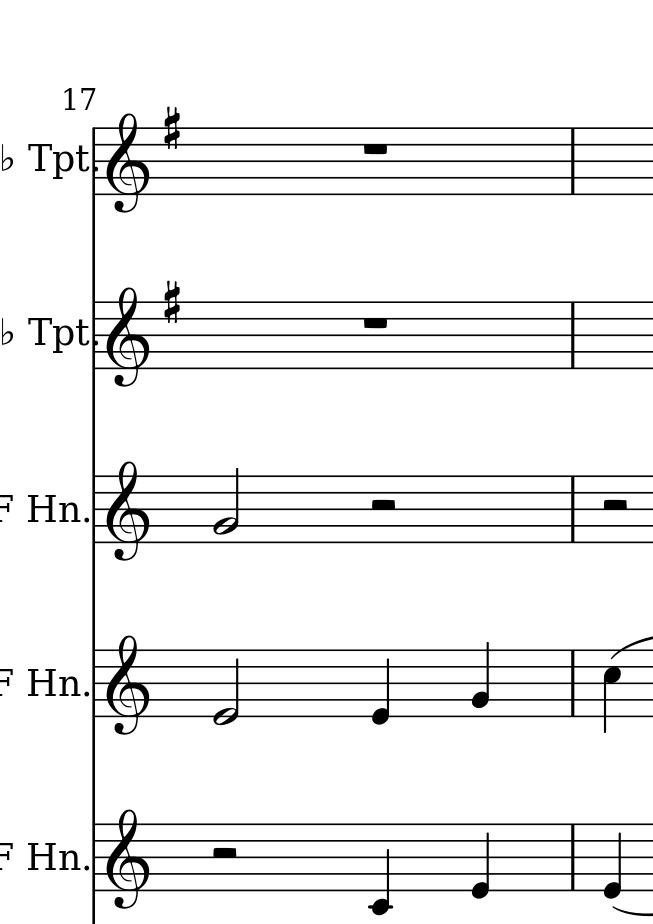1: (62, 84, 77, 115)
2_0: (206, 646, 242, 726)
2_2: (211, 465, 243, 544)
4_-2: (367, 818, 393, 917)
4_0: (368, 646, 394, 728), (601, 821, 625, 900), (469, 822, 493, 899)
4_2: (469, 637, 494, 719)
4_5: (599, 648, 625, 737)
7: (79, 83, 98, 114)
Gclef: (105, 455, 152, 563), (106, 806, 150, 909), (106, 635, 151, 735), (108, 113, 148, 217), (107, 285, 147, 389)
Hn: (22, 835, 83, 881), (23, 486, 85, 531), (21, 663, 82, 706)
Rests1: (359, 139, 396, 158), (361, 314, 390, 334)
Rests2: (206, 841, 240, 863), (365, 495, 402, 515), (597, 497, 631, 516)
Sharp: (162, 277, 184, 326), (160, 104, 182, 152)
Single_barline: (86, 824, 107, 891), (563, 823, 583, 891), (563, 475, 583, 542), (563, 649, 583, 716), (87, 648, 105, 716), (565, 302, 582, 367), (89, 475, 105, 543), (88, 127, 103, 196), (89, 301, 104, 369), (567, 127, 580, 195)
Tpt: (21, 311, 90, 359), (29, 138, 89, 182)
